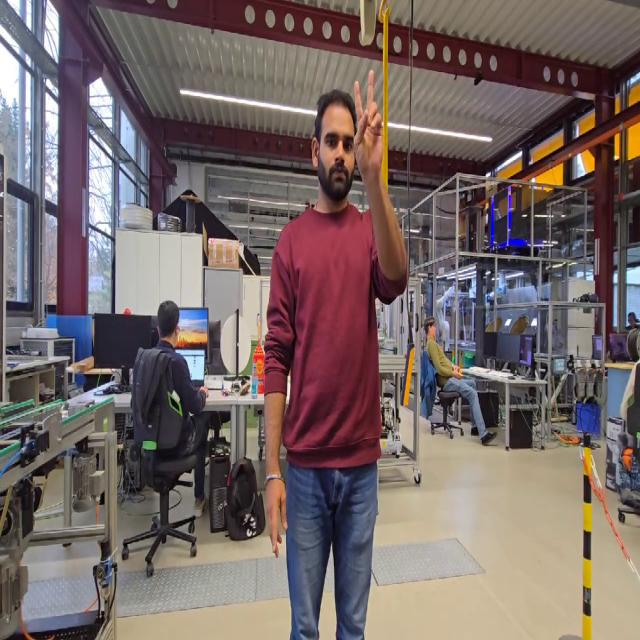v_sign: (350, 66, 387, 188)
